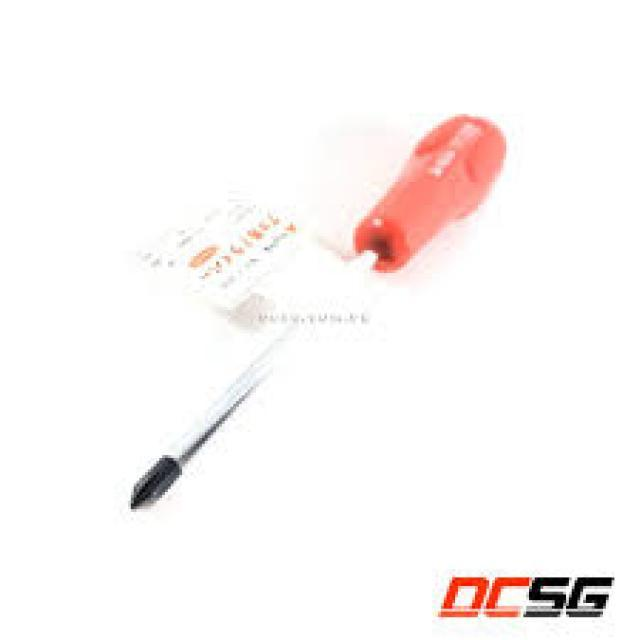screwdriver: (125, 111, 509, 515)
